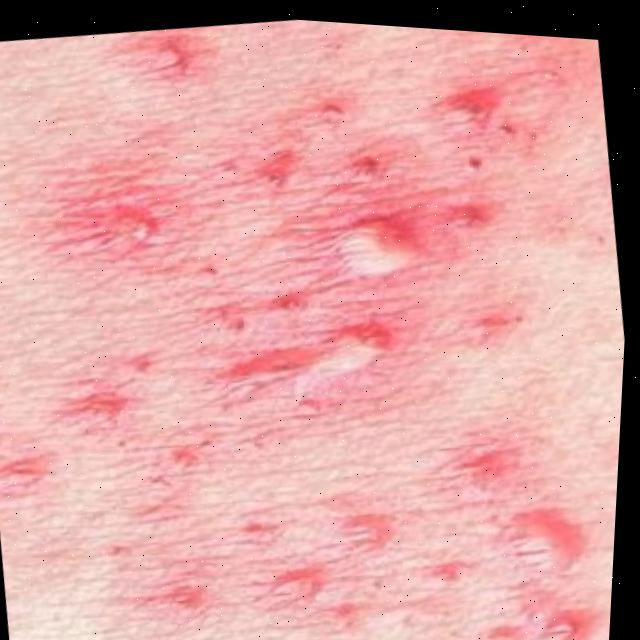Shingles: (11, 3, 640, 640)
